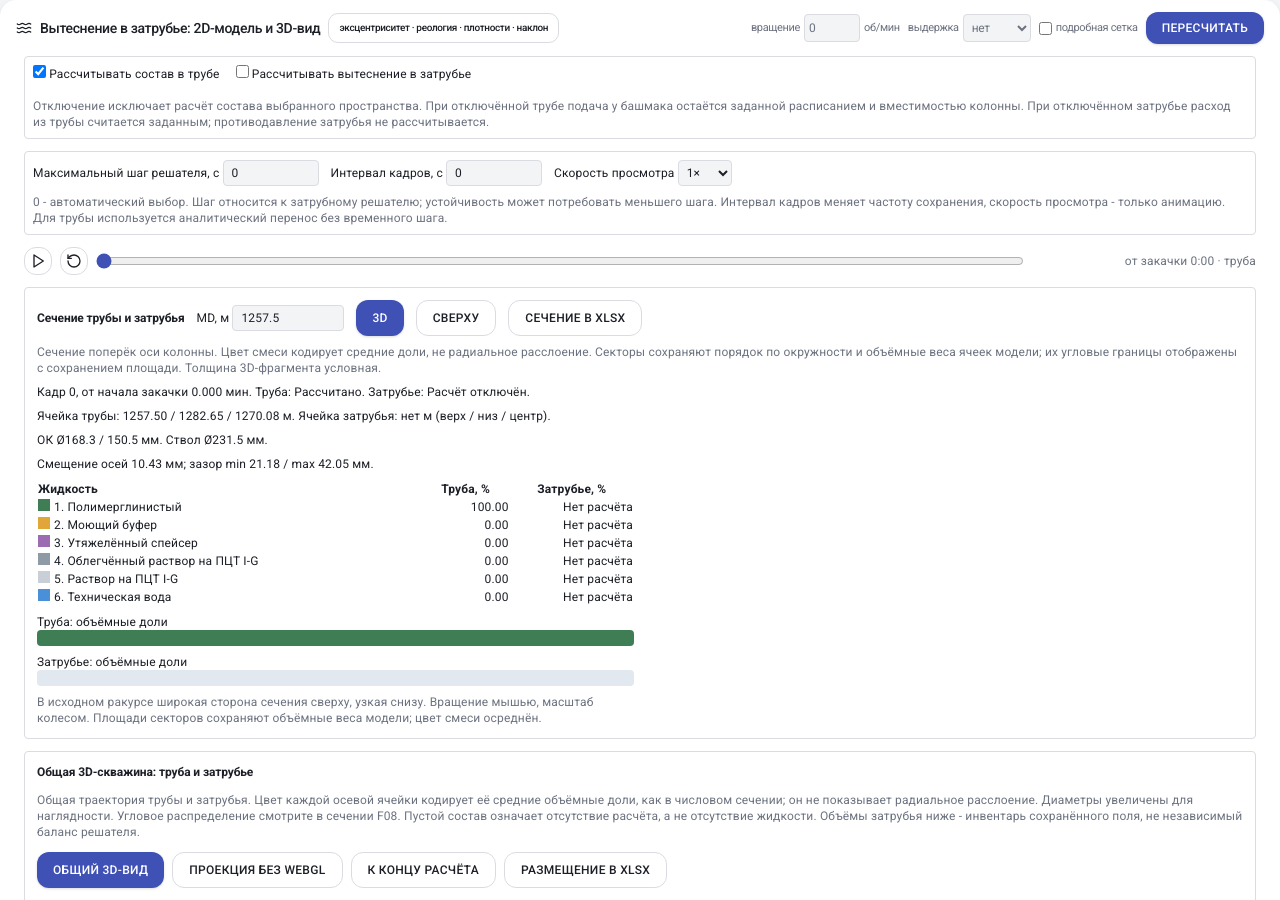
Test: changes playback without marking a fresh result stale, while frame interval requires recalculation
Check: the text "Исходные данные изменились" is not shown
Select "2×" in the dropdown labelled "Скорость просмотра" at (705, 173), box [678,160,732,186]
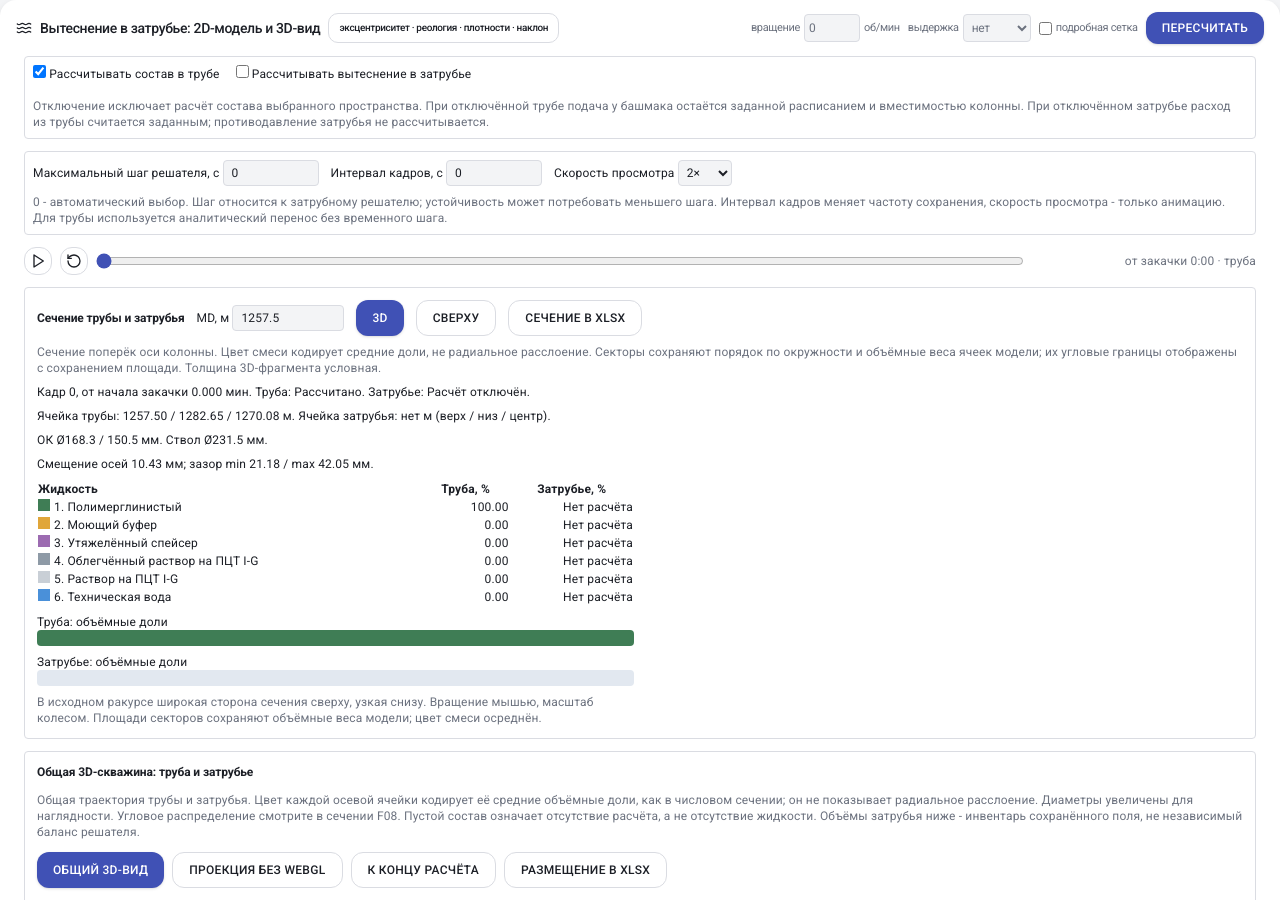
Check: the text "Исходные данные изменились" is not shown
Replace the text in the number field labelled "Интервал кадров, с" with "15" at (494, 173), box [446,160,542,186]
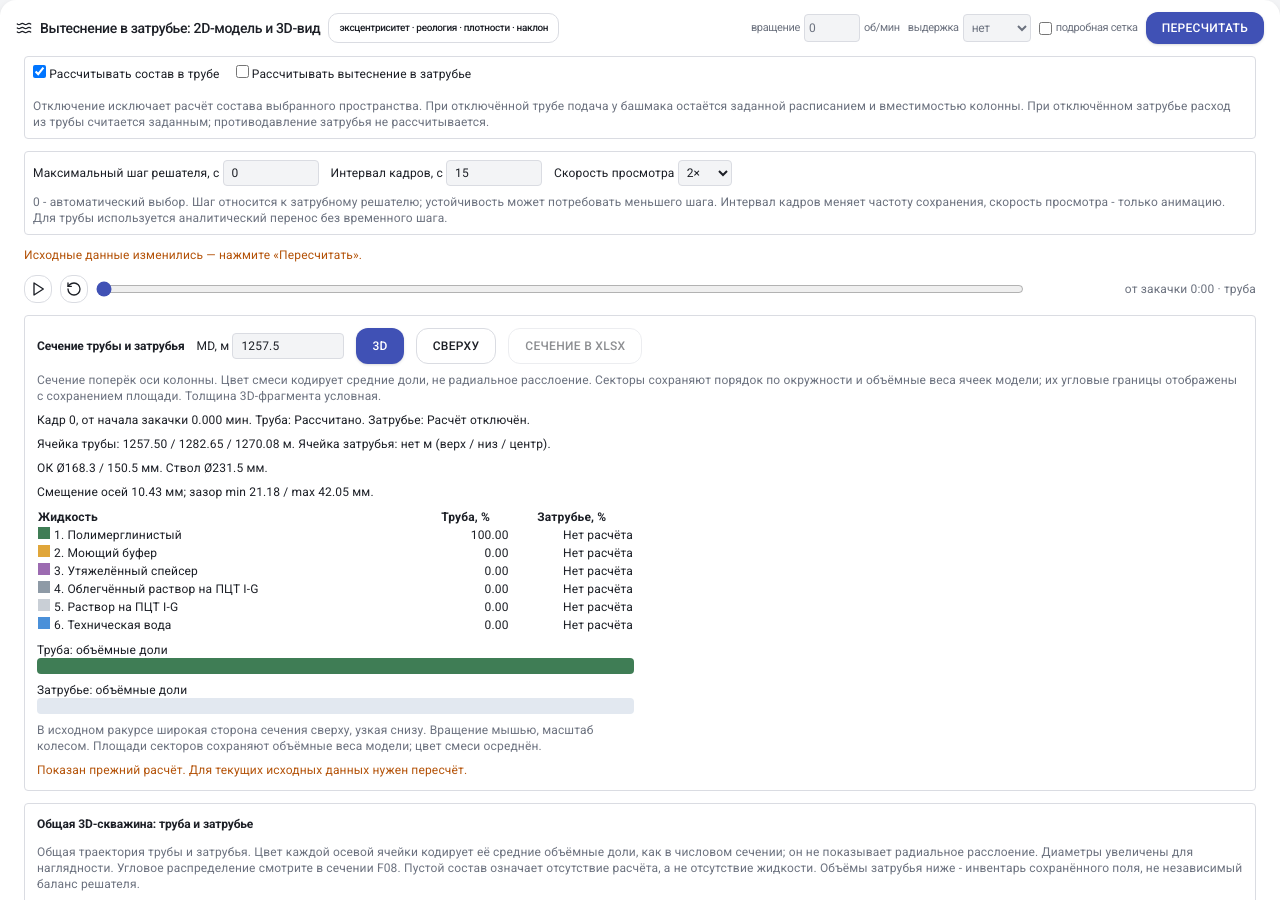
Check: the text "Исходные данные изменились — нажмите «Пересчитать»." is shown, box [24,248,362,262]
